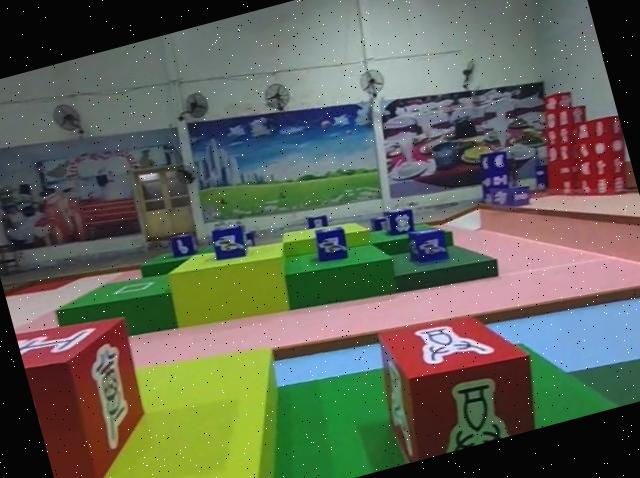R2 Fake: (12, 299, 165, 478)
R2 Real: (367, 295, 548, 464)
